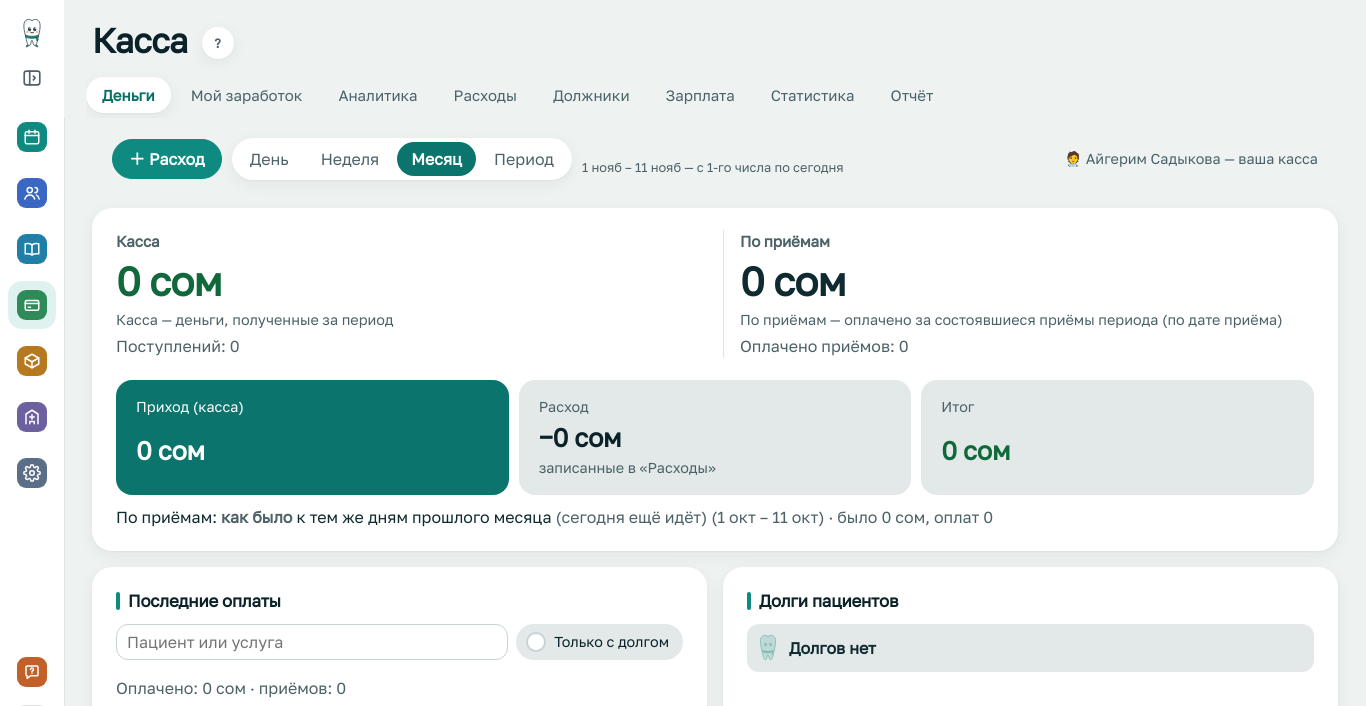
Test: «Касса → Мой заработок»: сегодня, за месяц, к прошлому месяцу, цель и итог дня
The width and height of the screenshot is (1366, 706).
Expected: the navigation bar named "Разделы" is shown, [8,113,56,497]
Step 1. Click the link "Мой заработок" → (247, 95), box [191,86,302,104]
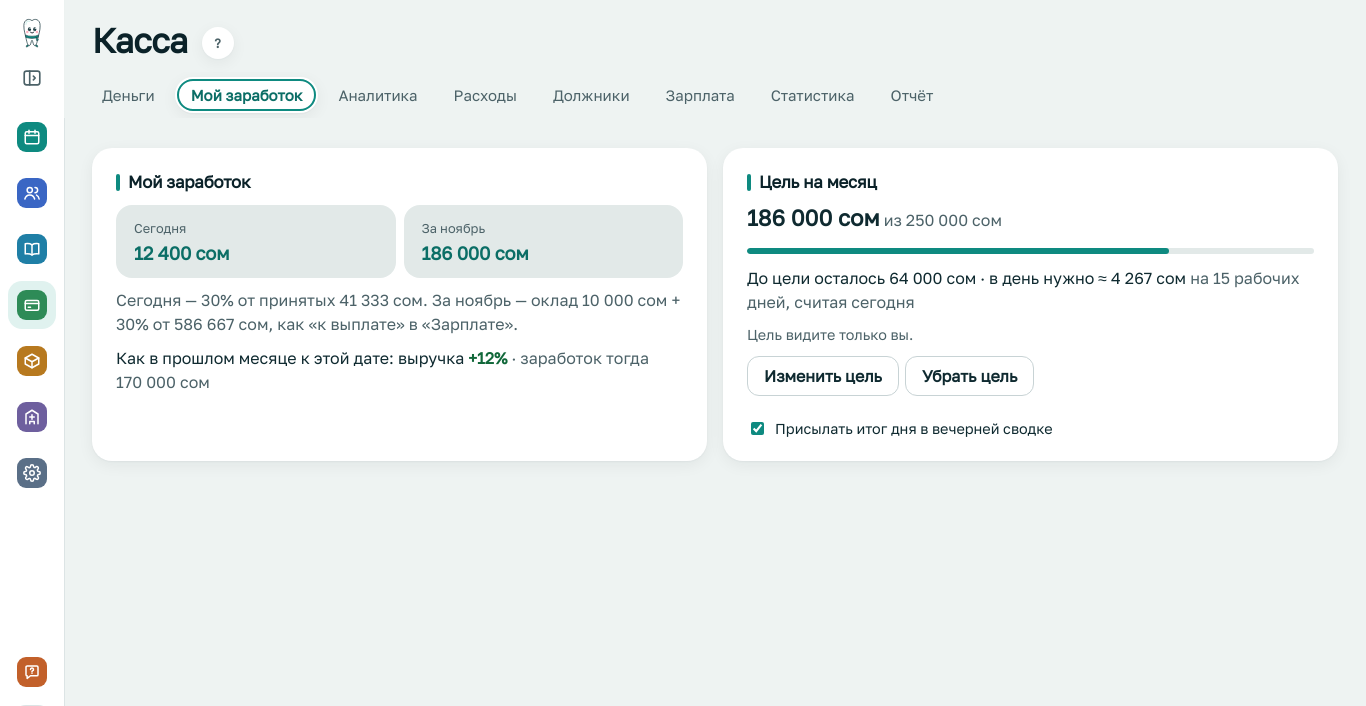
Expected: the text named "Сегодня" reads "12 400 сом", [134,242,229,264]
Expected: the text named "За месяц" reads "186 000 сом", [422,242,528,264]
Expected: the element "Мой заработок" shows "За ноябрь", [422,220,485,236]
Step 2. Click the button "Изменить цель" → (823, 376), box [747,356,899,396]
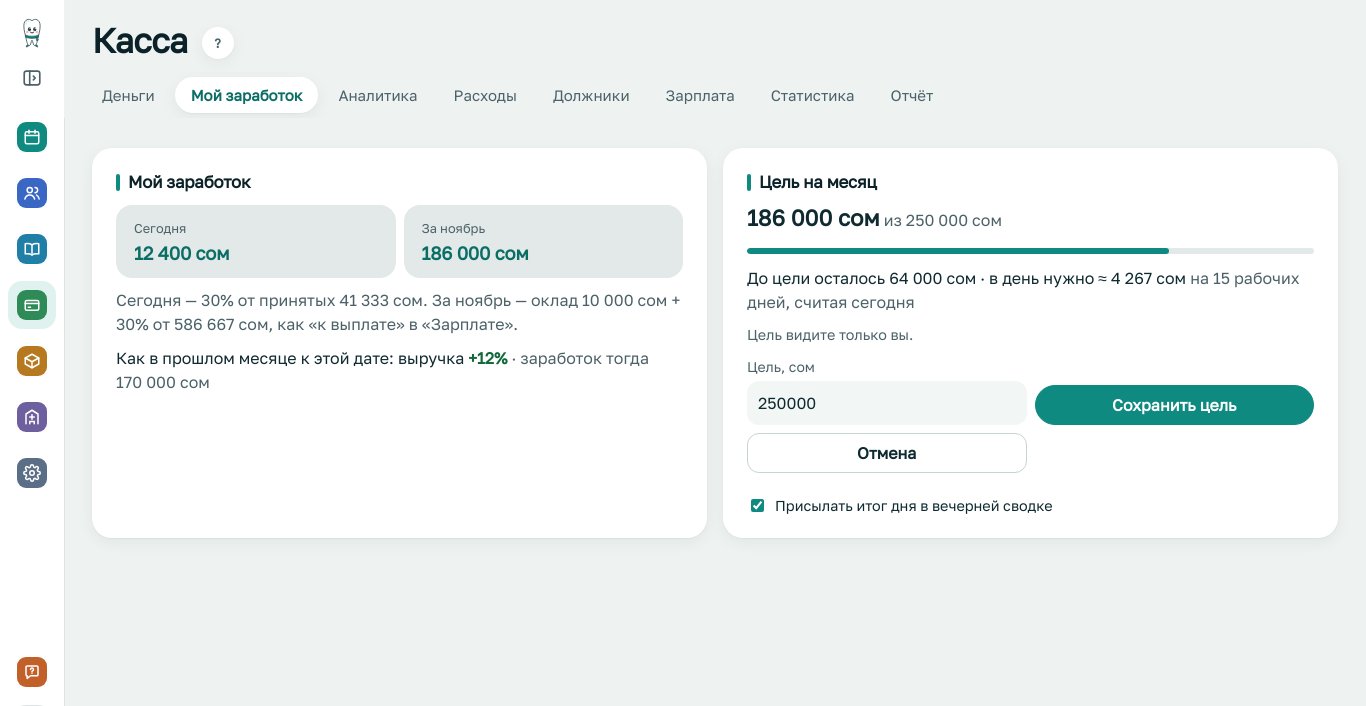
Step 3. Replace the text in the field labelled "Цель, сом" with "300 000" → (887, 403), box [747,381,1026,425]
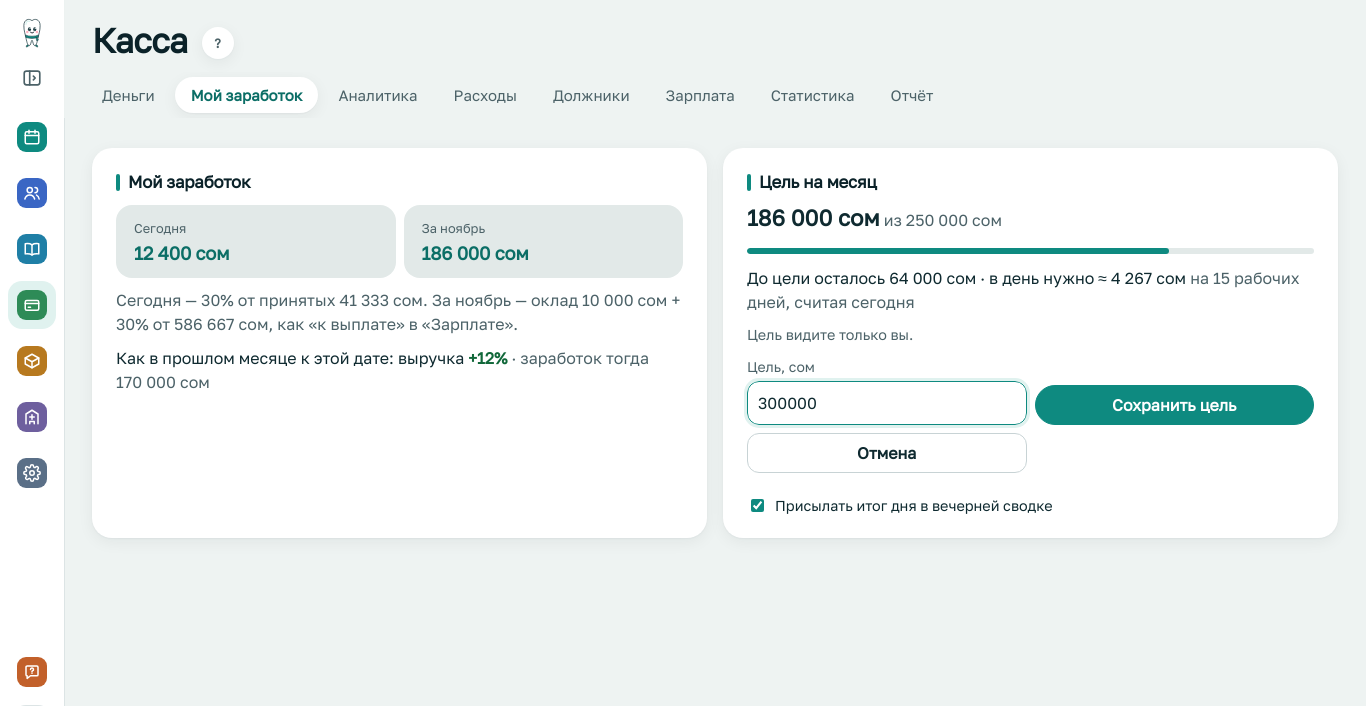
Step 4. Click the button "Сохранить цель" → (1174, 405), box [1034,385,1314,425]
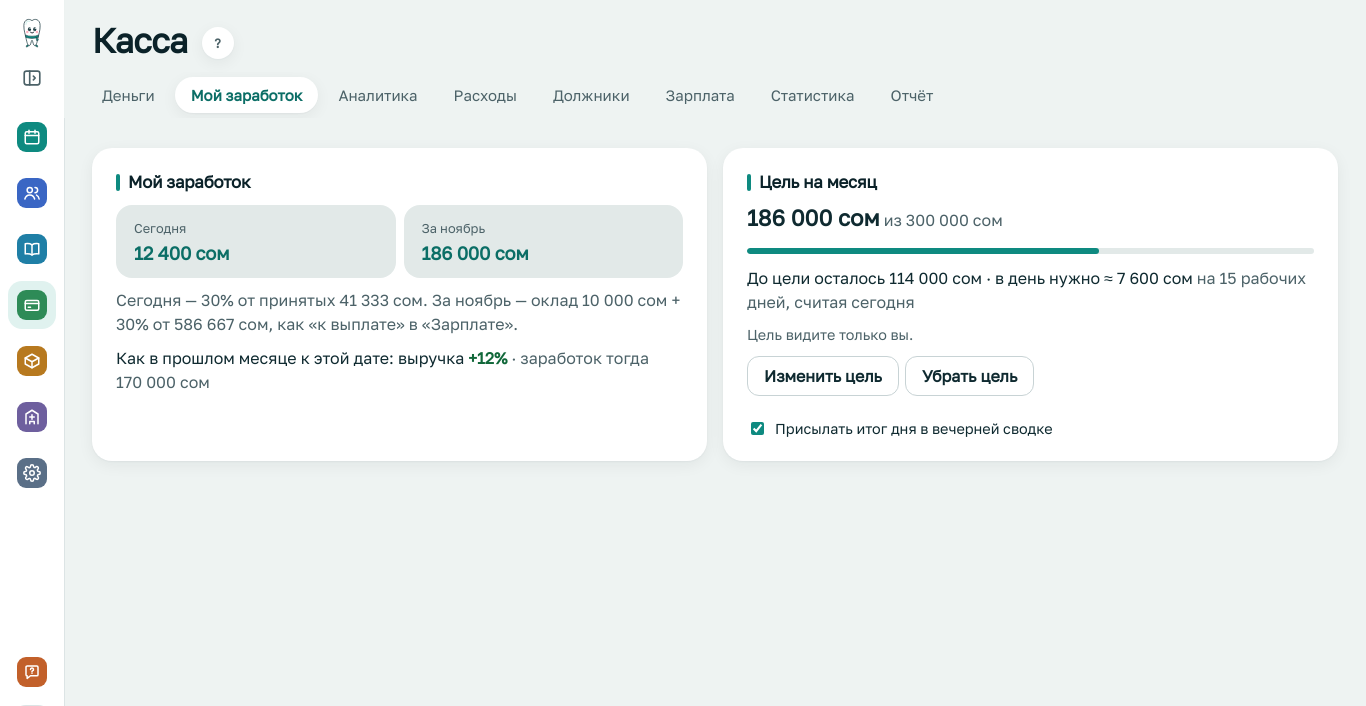
Step 5. Click the checkbox labelled "Присылать итог дня в вечерней сводке" → (758, 429), box [751,422,764,435]
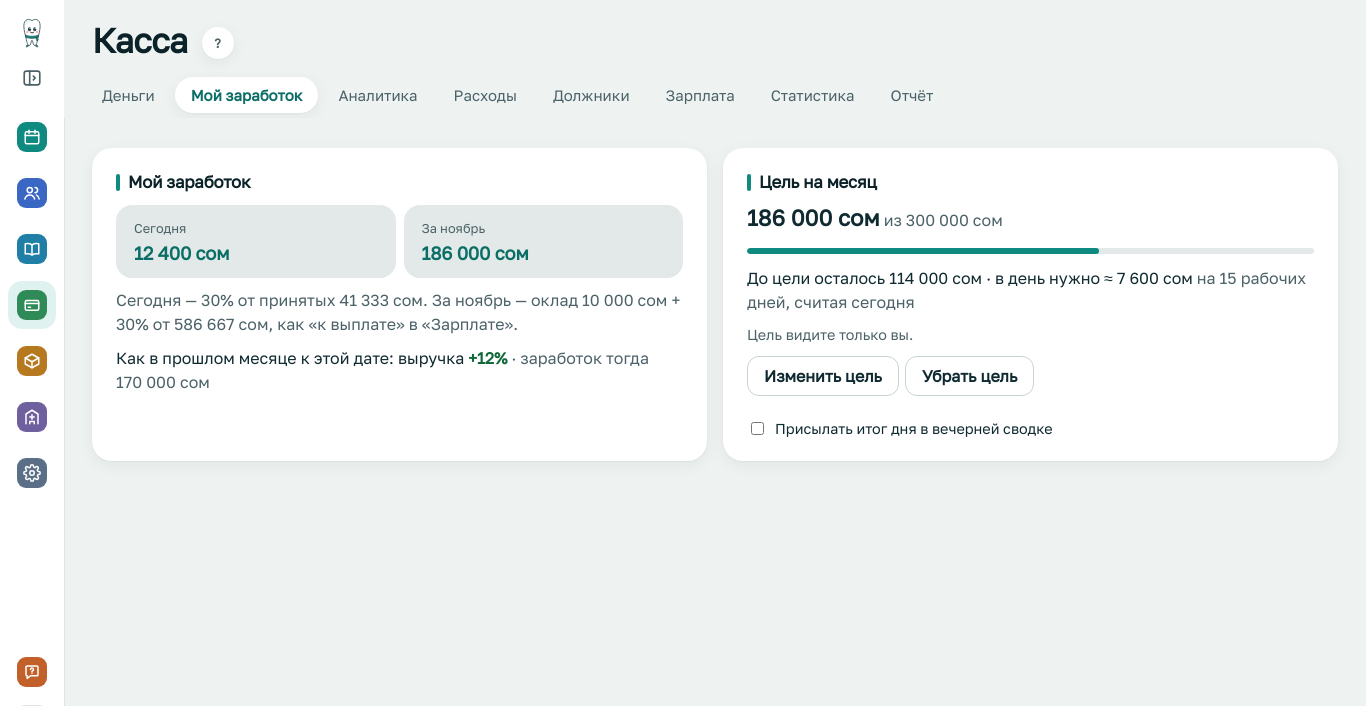
Expected: the checkbox labelled "Присылать итог дня в вечерней сводке" is not checked, [751,422,764,435]
